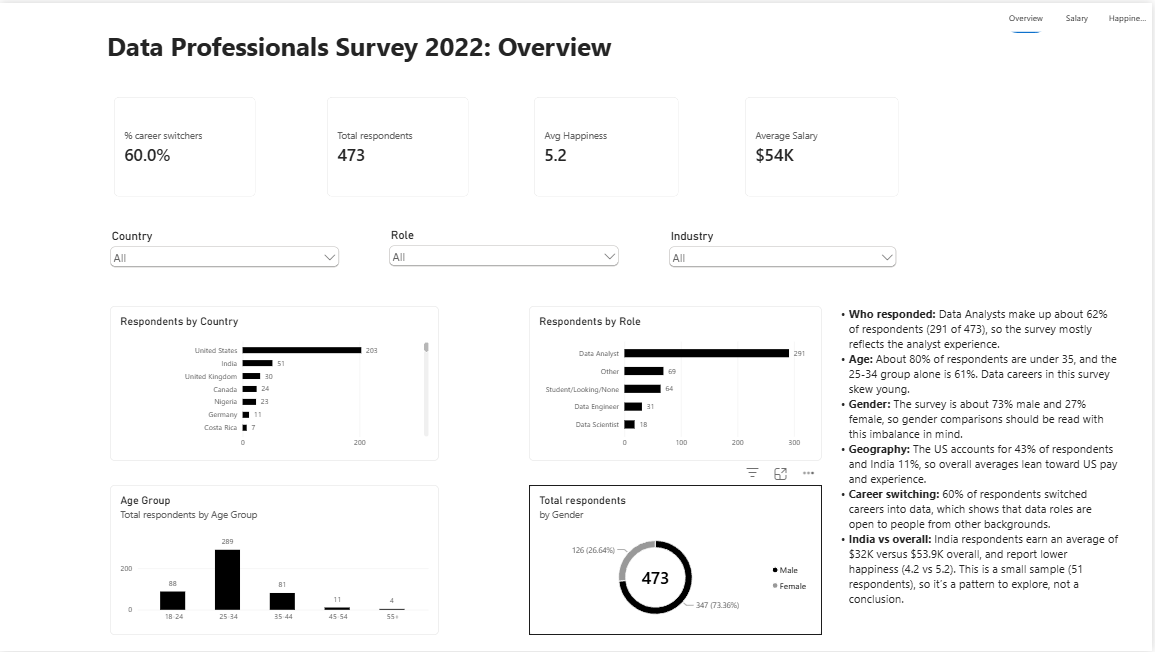

This screenshot's page, from the dashboard's own definition file:
{"tool":"powerbi","page":{"name":"Overview","canvas":[1920,1080],"ordinal":0},"visuals":[{"type":"textbox","box":[178.3,41.7,1741.7,101.7],"z":0},{"type":"cardVisual","fields":{"Data":["Measures (2).% career switchers"]},"box":[190,156.7,236.7,166.7],"z":1000},{"type":"cardVisual","fields":{"Data":["Measures (2).Total respondents"]},"box":[545,156.7,236.7,166.7],"z":2000},{"type":"cardVisual","fields":{"Data":["Measures (2).Average Salary"]},"box":[1241.7,156.7,256.7,166.7],"z":3000},{"type":"cardVisual","fields":{"Data":["Measures (2).Avg Happiness"]},"box":[890,156.7,241.7,166.7],"z":4000},{"type":"slicer","fields":{"Values":["Data Professional Survey.Country"]},"box":[178.3,376.7,391.7,75],"z":5000},{"type":"clusteredBarChart","title":"Respondents by Country","fields":{"Category":["Data Professional Survey.Country"],"Y":["Measures (2).Total respondents"]},"box":[183.3,505,548.3,258.3],"z":6000},{"type":"clusteredBarChart","title":"Respondents by Role","fields":{"Category":["Data Professional Survey.Role"],"Y":["Measures (2).Total respondents"]},"box":[881.7,505,488.3,258.3],"z":7000},{"type":"clusteredColumnChart","title":"Age Group","fields":{"Category":["Data Professional Survey.Age Group"],"Y":["Measures (2).Total respondents"]},"box":[183.3,803.3,548.3,250],"z":8000},{"type":"donutChart","fields":{"Category":["Data Professional Survey.Gender"],"Y":["Measures (2).Total respondents"]},"box":[881.7,803.3,488.3,250],"z":9000},{"type":"slicer","fields":{"Values":["Data Professional Survey.Role"]},"box":[643.1,375,393.3,75],"z":10000},{"type":"slicer","fields":{"Values":["Data Professional Survey.Industry"]},"box":[1109.6,377.1,389.2,74.1],"z":11000},{"type":"pageNavigator","box":[1671.7,0,248.3,50],"z":12000},{"type":"textbox","box":[1386.7,505,478.3,521.7],"z":13000}]}

Visuals, with their boxes on the page's 1920x1080 design canvas (x1, y1, x2, y2). These are canvas units, not pixel positions in the 1155x652 screenshot, which may show the page scaled, cropped or inside an application window:
textbox: {"left": 178, "top": 42, "right": 1920, "bottom": 143}
cardVisual - Measures (2).% career switchers: {"left": 190, "top": 157, "right": 427, "bottom": 323}
cardVisual - Measures (2).Total respondents: {"left": 545, "top": 157, "right": 782, "bottom": 323}
cardVisual - Measures (2).Average Salary: {"left": 1242, "top": 157, "right": 1498, "bottom": 323}
cardVisual - Measures (2).Avg Happiness: {"left": 890, "top": 157, "right": 1132, "bottom": 323}
slicer - Data Professional Survey.Country: {"left": 178, "top": 377, "right": 570, "bottom": 452}
"Respondents by Country" clusteredBarChart: {"left": 183, "top": 505, "right": 732, "bottom": 763}
"Respondents by Role" clusteredBarChart: {"left": 882, "top": 505, "right": 1370, "bottom": 763}
"Age Group" clusteredColumnChart: {"left": 183, "top": 803, "right": 732, "bottom": 1053}
donutChart - Data Professional Survey.Gender x Measures (2).Total respondents: {"left": 882, "top": 803, "right": 1370, "bottom": 1053}
slicer - Data Professional Survey.Role: {"left": 643, "top": 375, "right": 1036, "bottom": 450}
slicer - Data Professional Survey.Industry: {"left": 1110, "top": 377, "right": 1499, "bottom": 451}
pageNavigator: {"left": 1672, "top": 0, "right": 1920, "bottom": 50}
textbox: {"left": 1387, "top": 505, "right": 1865, "bottom": 1027}
